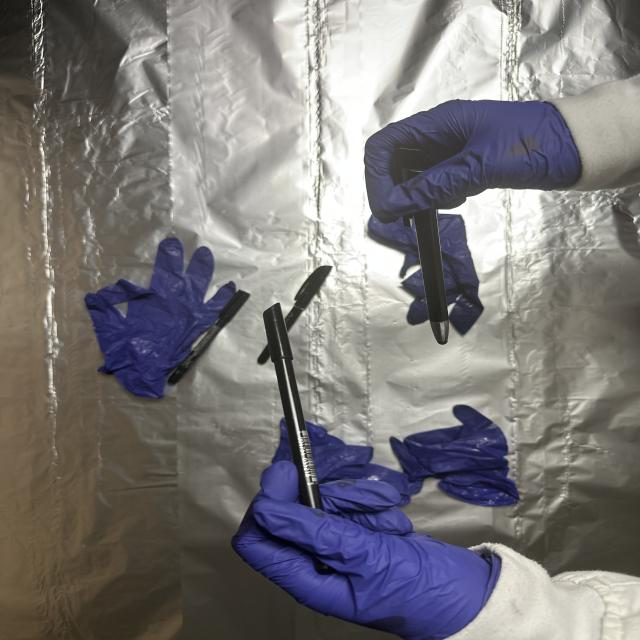gloves_contaminated: (232, 462, 506, 640), (365, 100, 581, 218)
